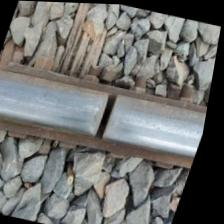person: (68, 73, 152, 153)
